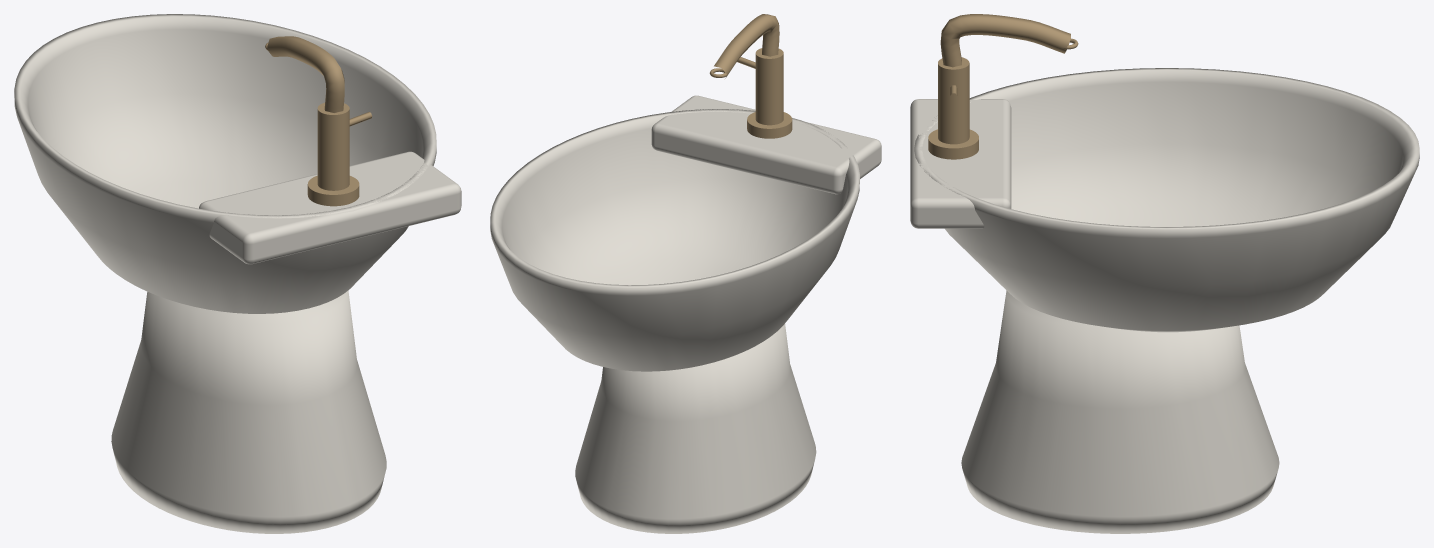
The model's file is bath-bidet.glb.
3 renders of one model, left to right at view 1: azimuth 30°, elevation 25°; view 2: azimuth 150°, elevation 25°; view 3: azimuth 270°, elevation 25°, orthographic. The views are drawn at different scales.
Visible parts, largest first — view 1: ceramic_surfaces, bronze_surfaces; view 2: ceramic_surfaces, bronze_surfaces; view 3: ceramic_surfaces, bronze_surfaces.
Boxes of the visible parts, <box> form: ceramic_surfaces: <box>14,14,461,533</box>; bronze_surfaces: <box>265,36,372,206</box>; ceramic_surfaces: <box>490,95,881,533</box>; bronze_surfaces: <box>709,14,792,138</box>; ceramic_surfaces: <box>910,68,1419,533</box>; bronze_surfaces: <box>928,14,1078,159</box>.
Bounding box in the file's own units: 0.436 × 0.5857 × 0.5805.
